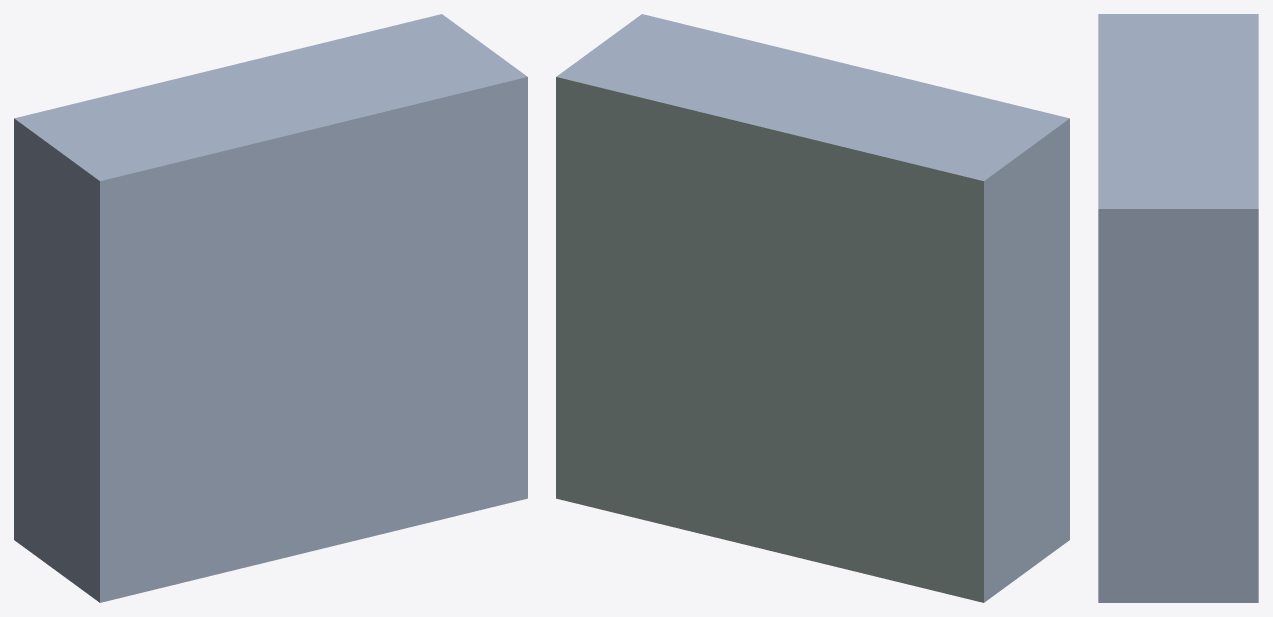
Rendered from icub_l_hand.glb.
3 views of the same model, side by side, from view 1: azimuth 30°, elevation 25°; view 2: azimuth 150°, elevation 25°; view 3: azimuth 270°, elevation 25° (orthographic). The views are drawn at different scales.
Parts seen in each view (by area): view 1: l_hand_mesh; view 2: l_hand_mesh; view 3: l_hand_mesh.
Boxes of the visible parts, x1,y1,x2,y2 form: l_hand_mesh: (14, 14, 527, 602); l_hand_mesh: (556, 14, 1069, 602); l_hand_mesh: (1098, 14, 1258, 602).
Bounding box in the file's own units: 0.069 × 0.065 × 0.024.
